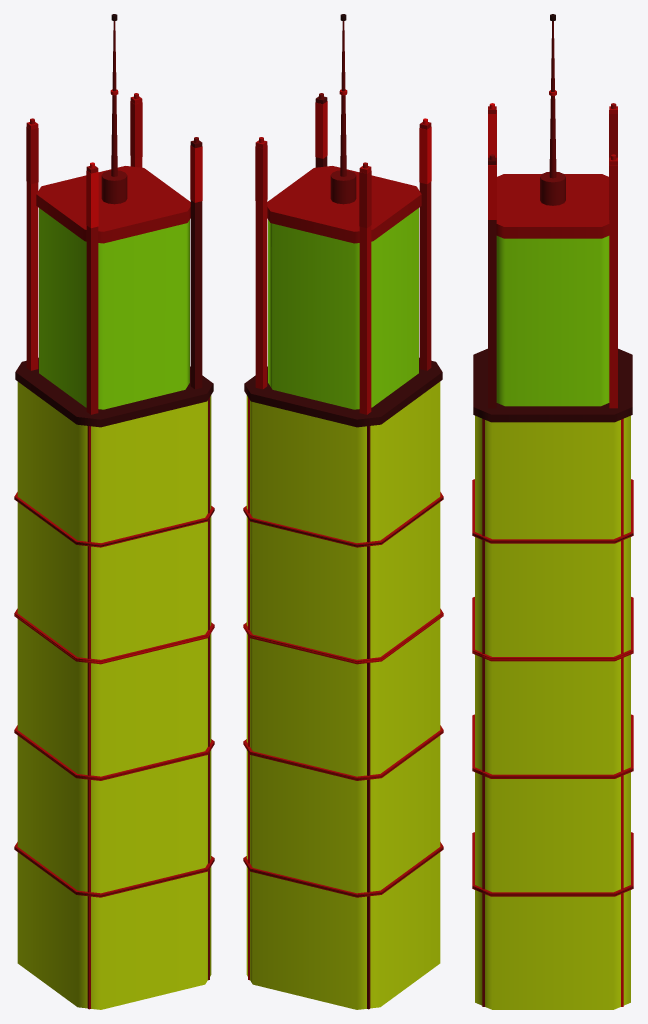
Rendered from tower_a.glb.
The picture shows the model from 3 angles, left to right: view 1: azimuth 30°, elevation 25°; view 2: azimuth 150°, elevation 25°; view 3: azimuth 270°, elevation 25°; orthographic projection.
Visible parts, largest first — view 1: tower_a; view 2: tower_a; view 3: tower_a.
Boxes of the visible parts, <box> form: tower_a: <box>14,14,214,1009</box>; tower_a: <box>243,14,443,1009</box>; tower_a: <box>472,14,633,1009</box>.
Bounding box in the file's own units: 37.3 × 245 × 37.3.
